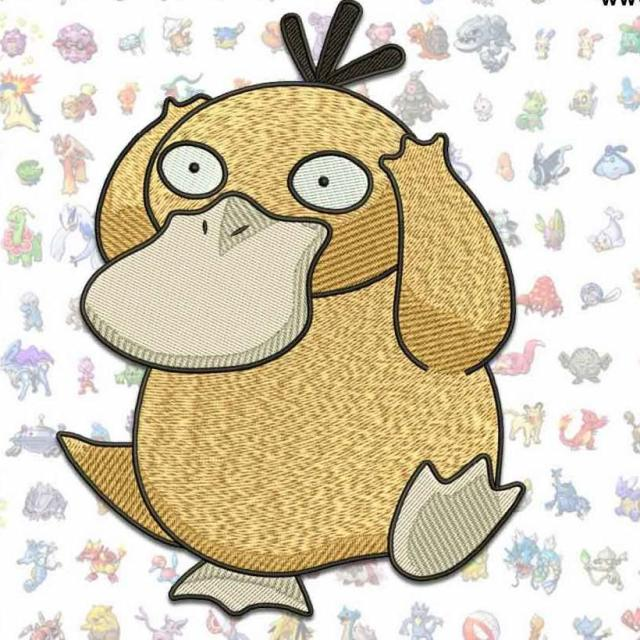Psyduck: (102, 67, 531, 613)
